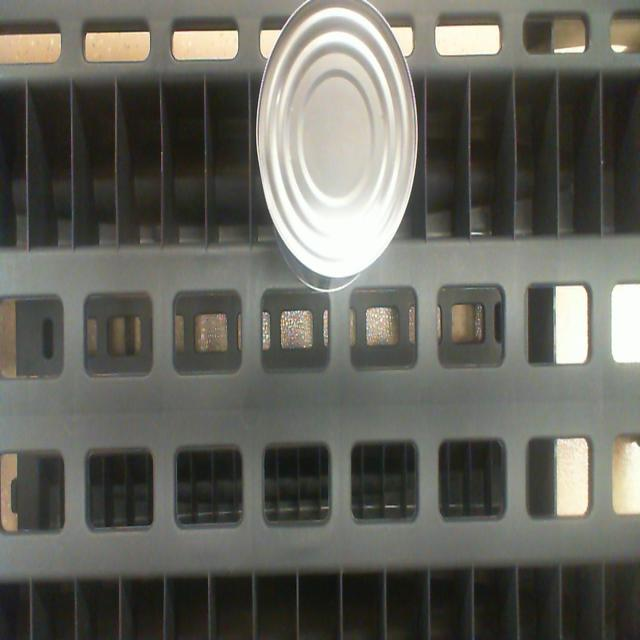can: (256, 4, 418, 281)
